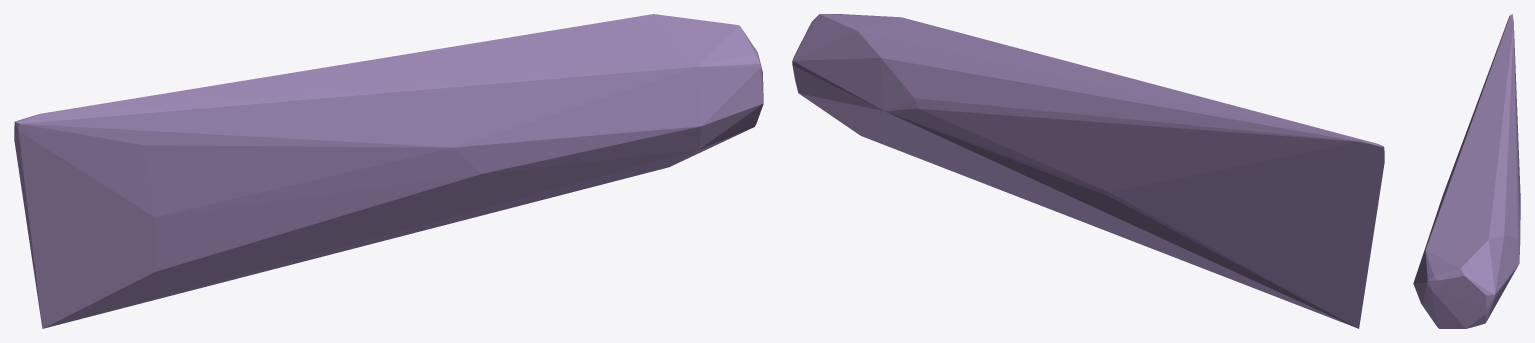
The model's file is paint_container_tube_e02.glb.
3 renders of one model, left to right at view 1: azimuth 30°, elevation 25°; view 2: azimuth 150°, elevation 25°; view 3: azimuth 270°, elevation 25°, orthographic. The views are drawn at different scales.
Visible parts, largest first — view 1: geometry_0; view 2: geometry_0; view 3: geometry_0.
Boxes of the visible parts, x1,y1,x2,y2 form: geometry_0: (14,14,763,328); geometry_0: (792,14,1384,328); geometry_0: (1413,14,1520,328).
Size of the model in its own units: 0.4798 by 0.1418 by 0.0951.
